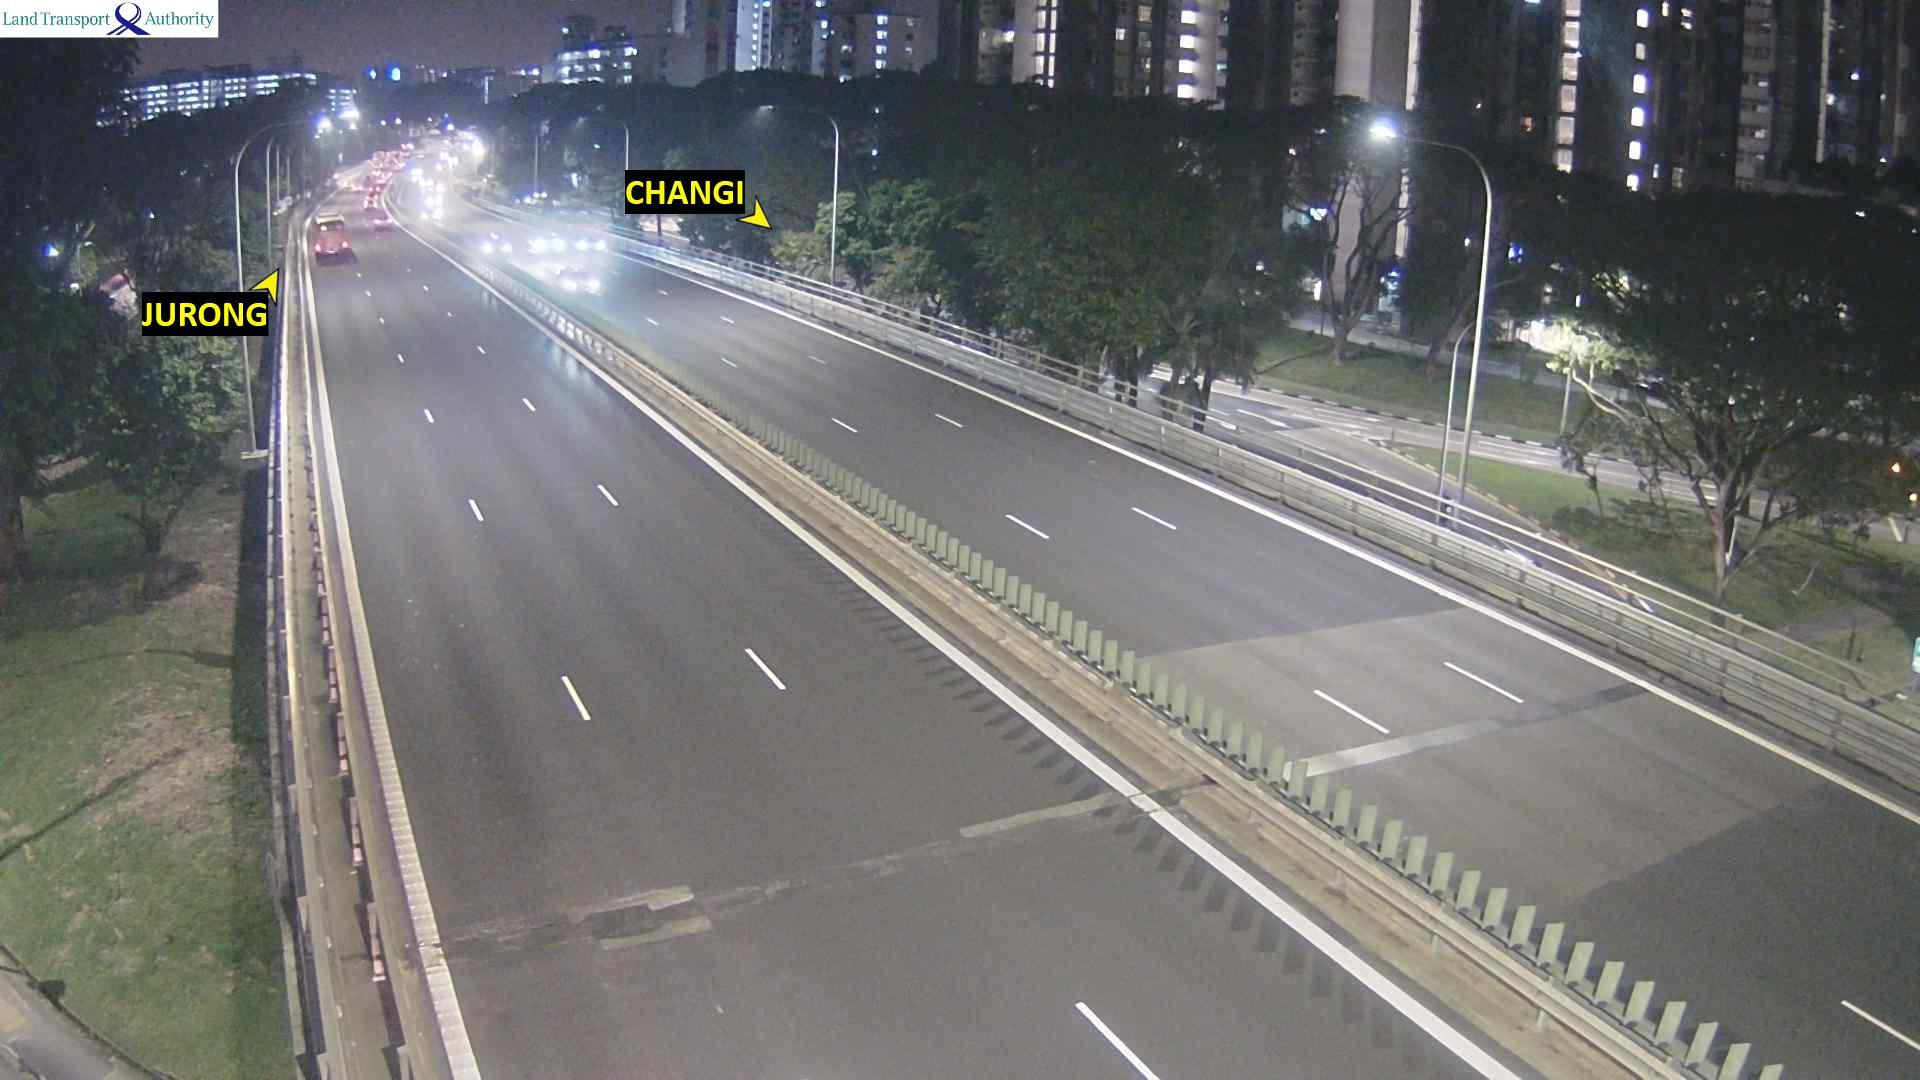cars: (554, 263, 601, 294), (310, 235, 356, 264), (525, 229, 566, 255), (481, 230, 512, 256), (570, 229, 605, 252), (313, 209, 345, 232), (371, 210, 392, 230), (418, 207, 445, 222), (423, 194, 445, 206), (363, 199, 379, 211), (364, 192, 380, 200), (409, 167, 425, 175), (368, 183, 383, 191), (409, 175, 424, 183), (352, 183, 365, 192), (374, 177, 389, 184), (422, 187, 436, 194), (371, 169, 383, 176)
